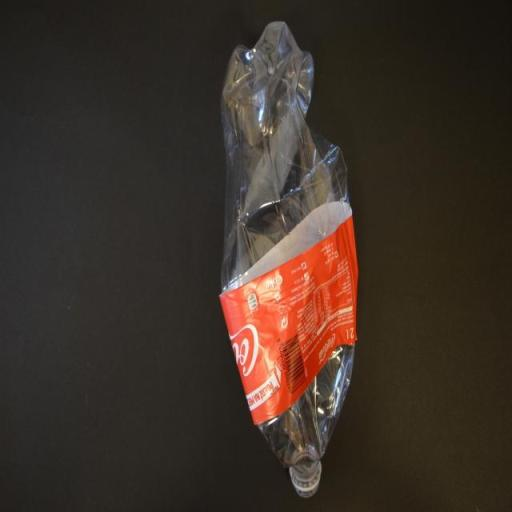plastic: (217, 20, 359, 501)
